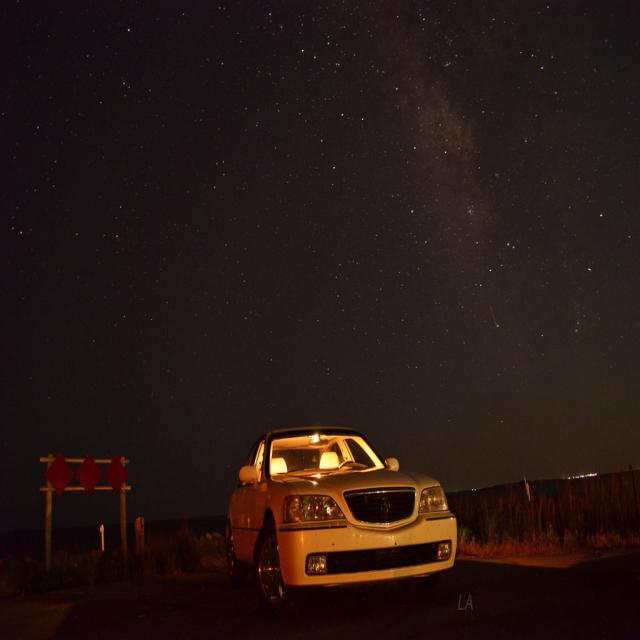car: (223, 425, 478, 604)
